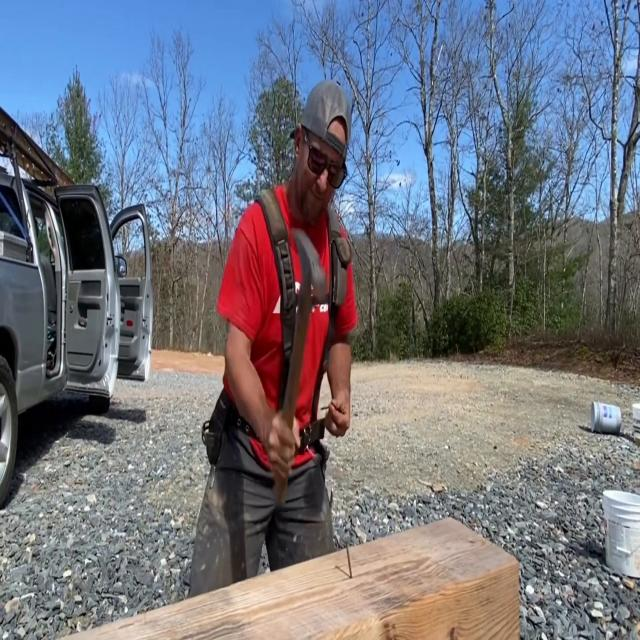hammer: (274, 228, 328, 506)
